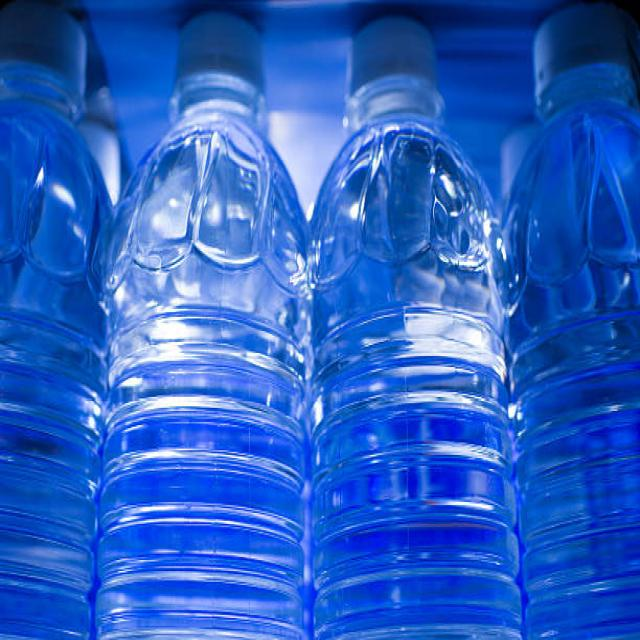blue_bottle: (94, 19, 312, 636), (312, 26, 529, 637)
